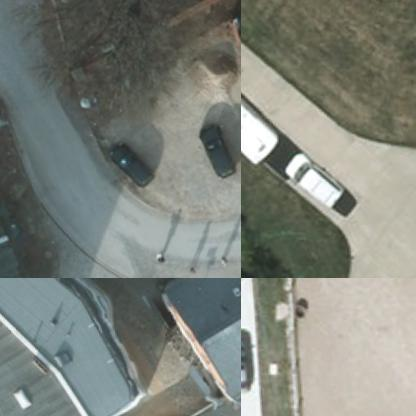car: (286, 146, 350, 212), (109, 140, 159, 190), (199, 121, 240, 178), (241, 326, 263, 395)
